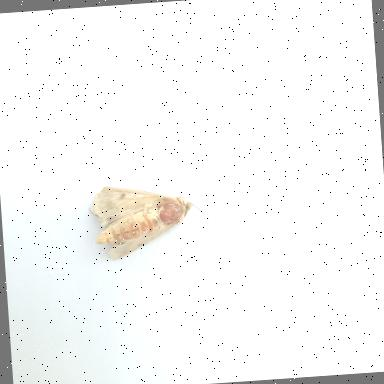abw: (85, 176, 216, 264)
